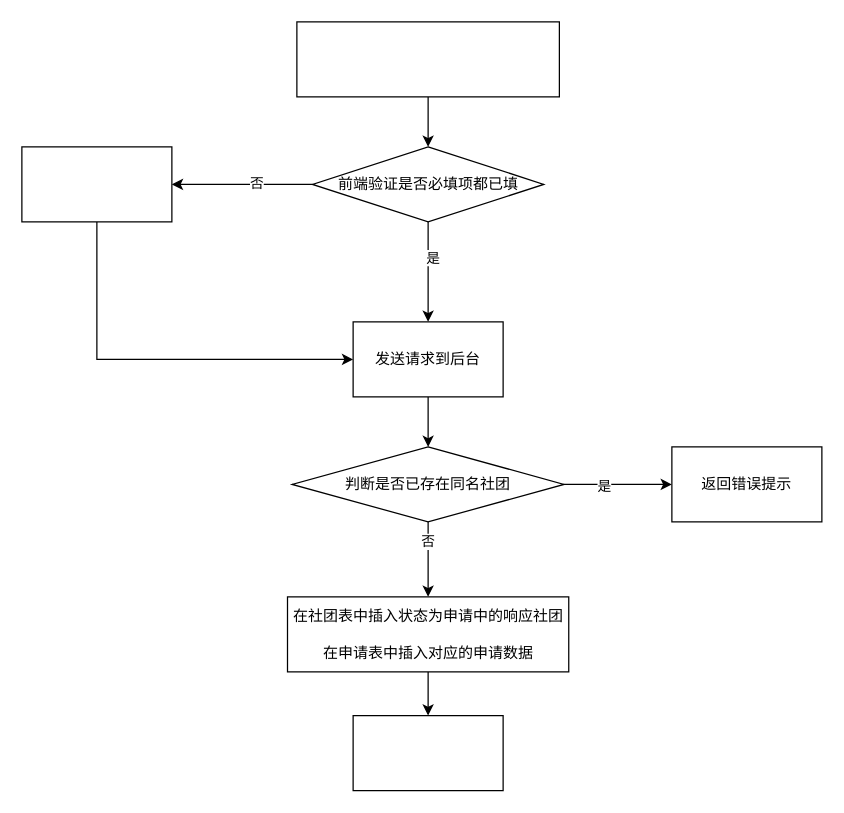
This 844x813 diagram has some shape labels left out. Each missing label, with the centre of its shape:
做出提醒后补充填写: point 96,184
用户填写相应新社团信息后点击提交: point 427,59
返回请求成功信息: point 427,752
